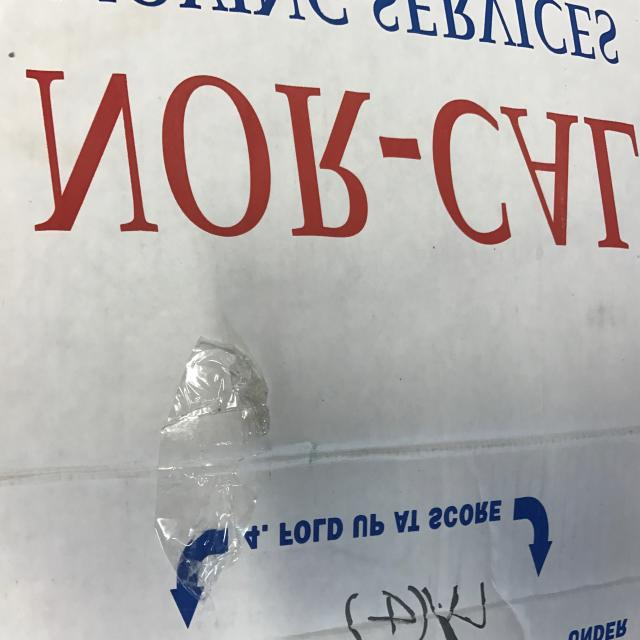cardboard: (1, 0, 640, 640), (0, 50, 640, 640)
